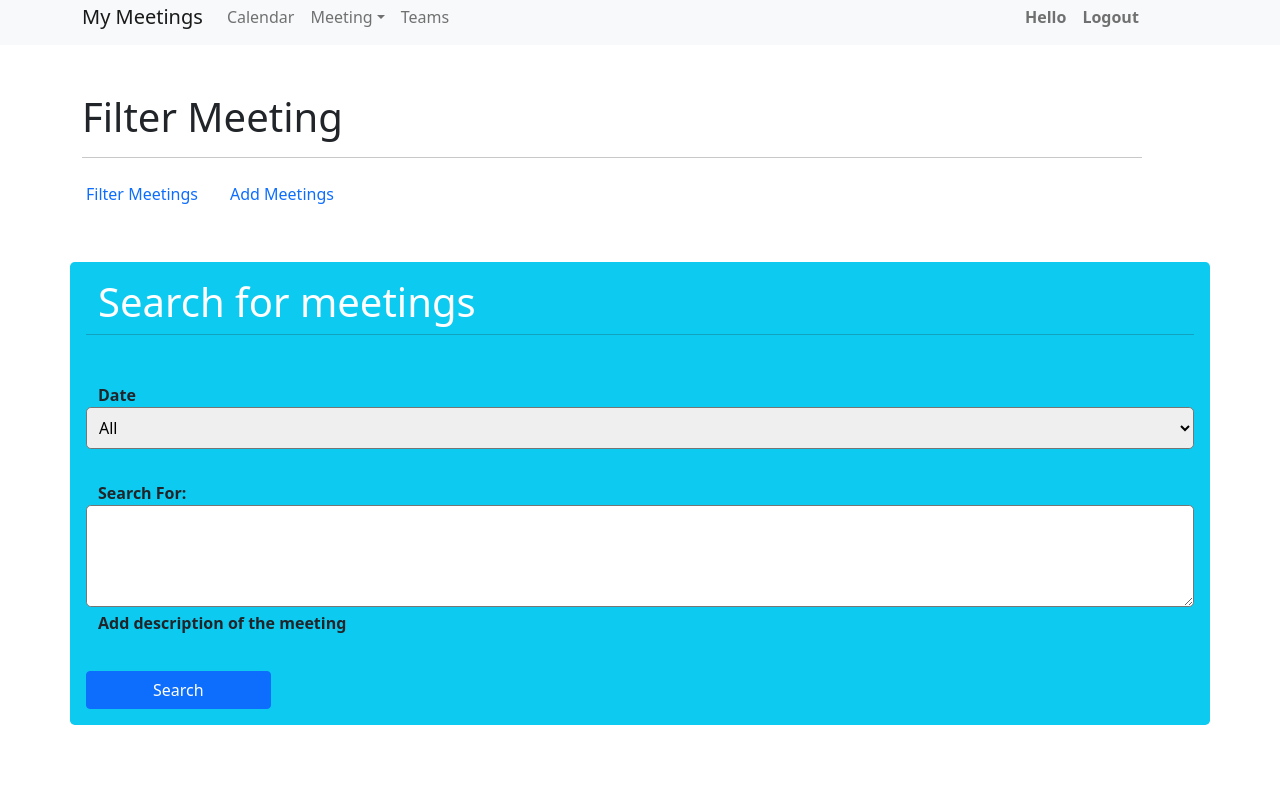
should execuse a meeting
The image size is (1280, 789).
Step 1. Click the button "Search" → (178, 690), box [86,671,271,709]
(page scrolled)
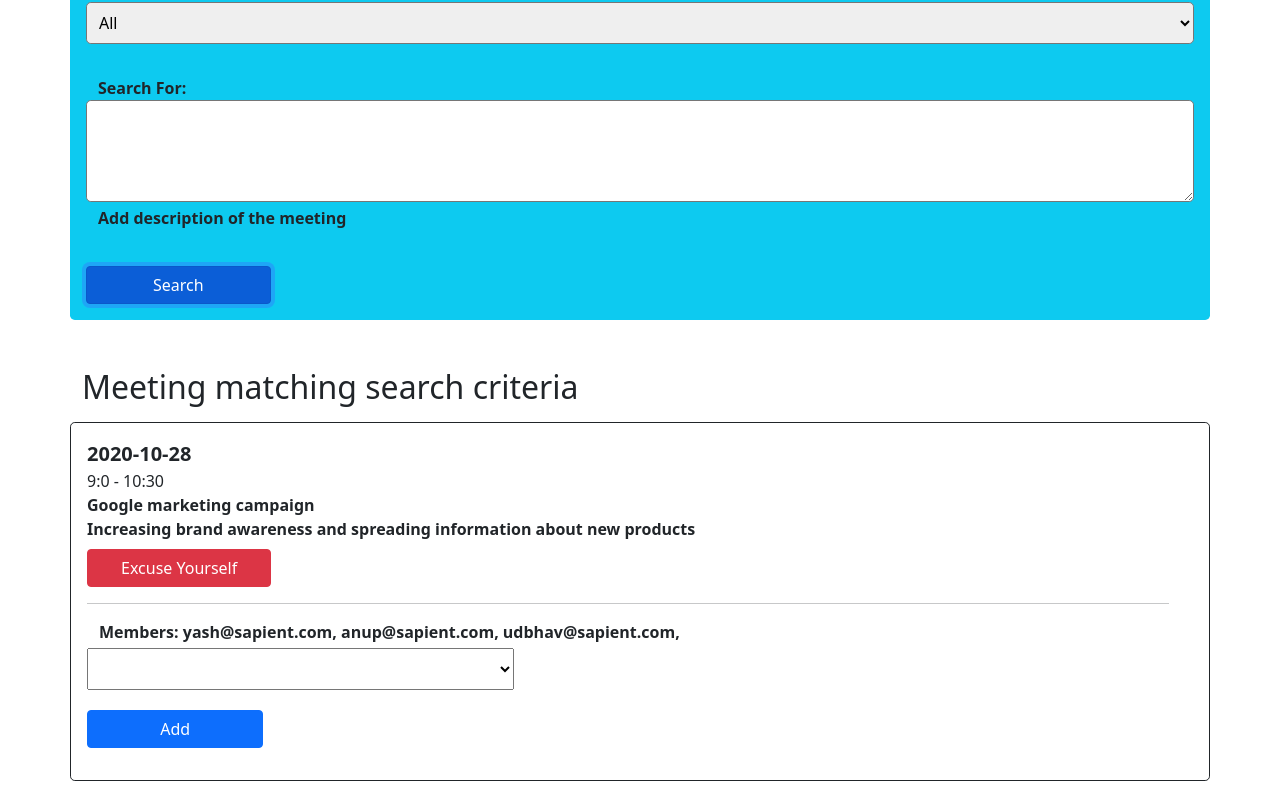
Step 2. Click the button "Excuse Yourself" → (179, 568), box [87,549,271,587]
(page scrolled)
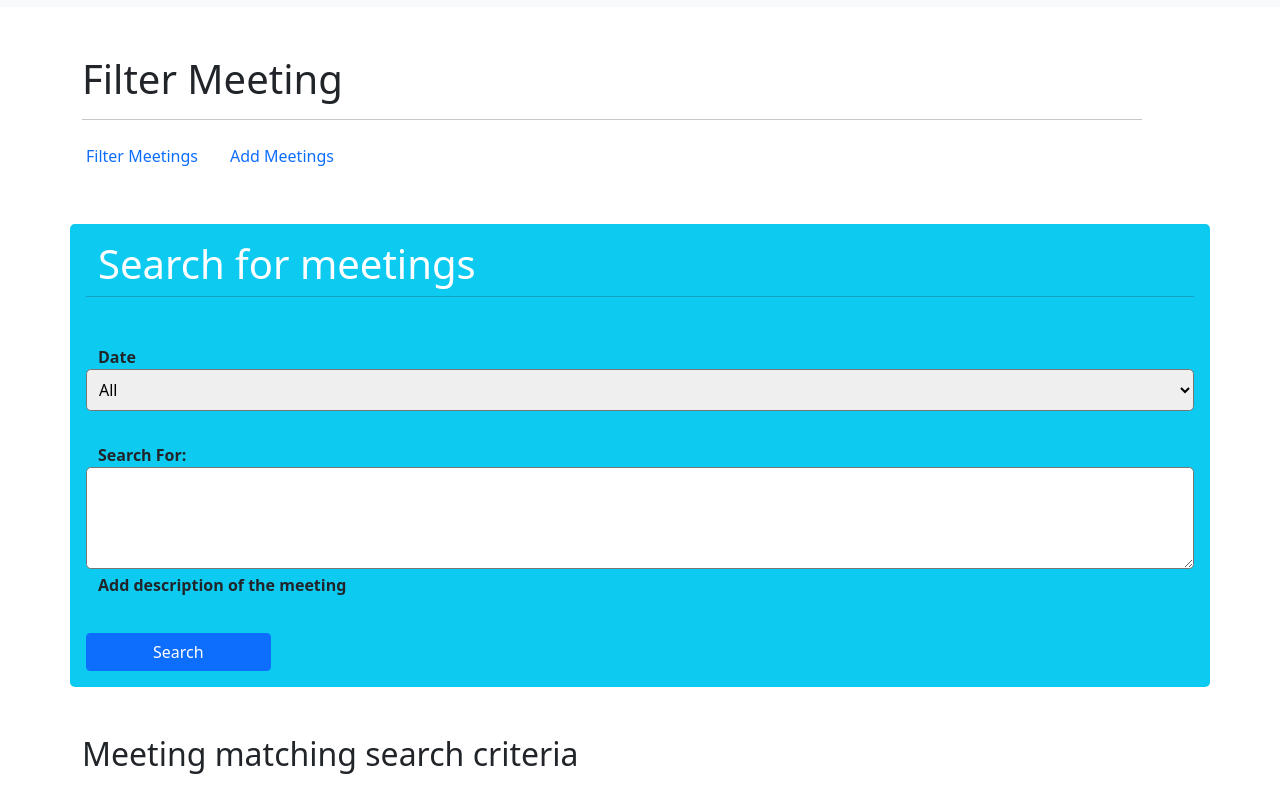
expect the element with test id "623b49d992127900155135e2" is gone: met
